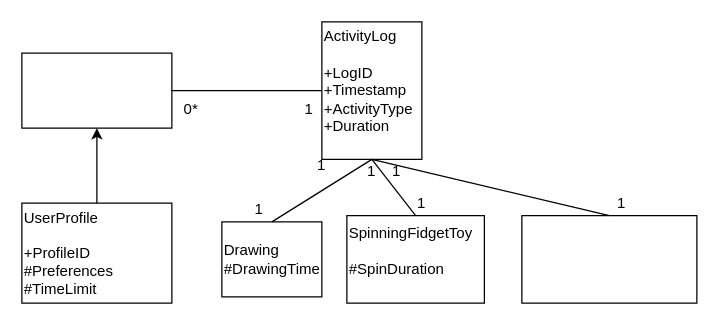
This 719x325 diagram has some shape labels left out. Here are the shapes that lost their labels. From the top down, the centre of each, then its label:
the point at 96,90: User #Preferences #TimeLimit
the point at 609,258: ColorChangingFidgetToy #TimesClicked
